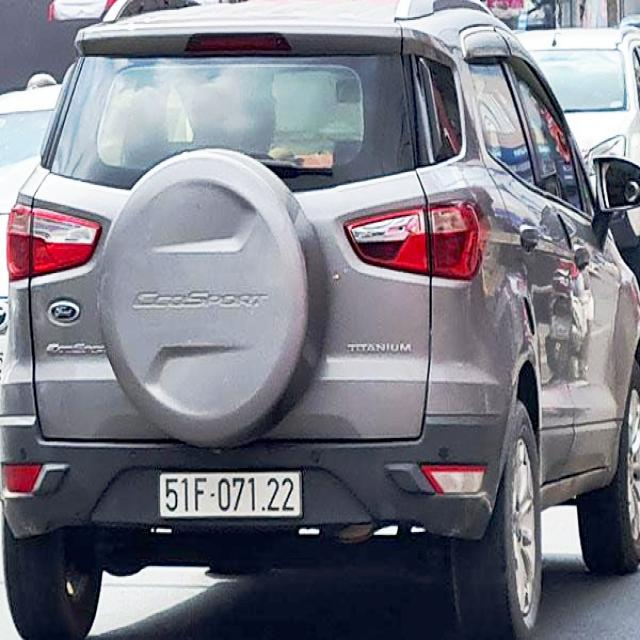license_plate: (161, 472, 301, 518)
